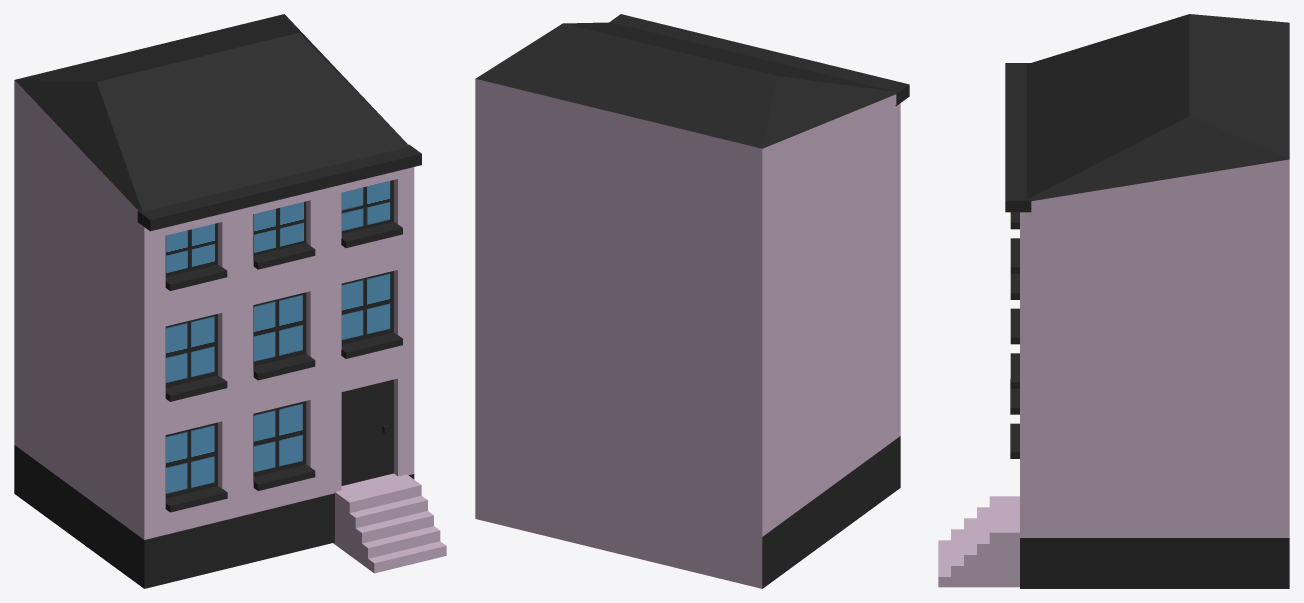
Rendered from NormalLavender.obj.
3 renders of one model, left to right at view 1: azimuth 30°, elevation 25°; view 2: azimuth 150°, elevation 25°; view 3: azimuth 270°, elevation 25°, orthographic. The views are drawn at different scales.
Visible parts, largest first — view 1: ZwyklyZwyklyLawenda; view 2: ZwyklyZwyklyLawenda; view 3: ZwyklyZwyklyLawenda.
Part boxes in pixels (left/top/right/bottom): ZwyklyZwyklyLawenda: left=14, top=14, right=446, bottom=588; ZwyklyZwyklyLawenda: left=475, top=14, right=909, bottom=588; ZwyklyZwyklyLawenda: left=938, top=14, right=1289, bottom=588.
Bounding box in the file's own units: 6.04 × 9.37 × 6.52.
